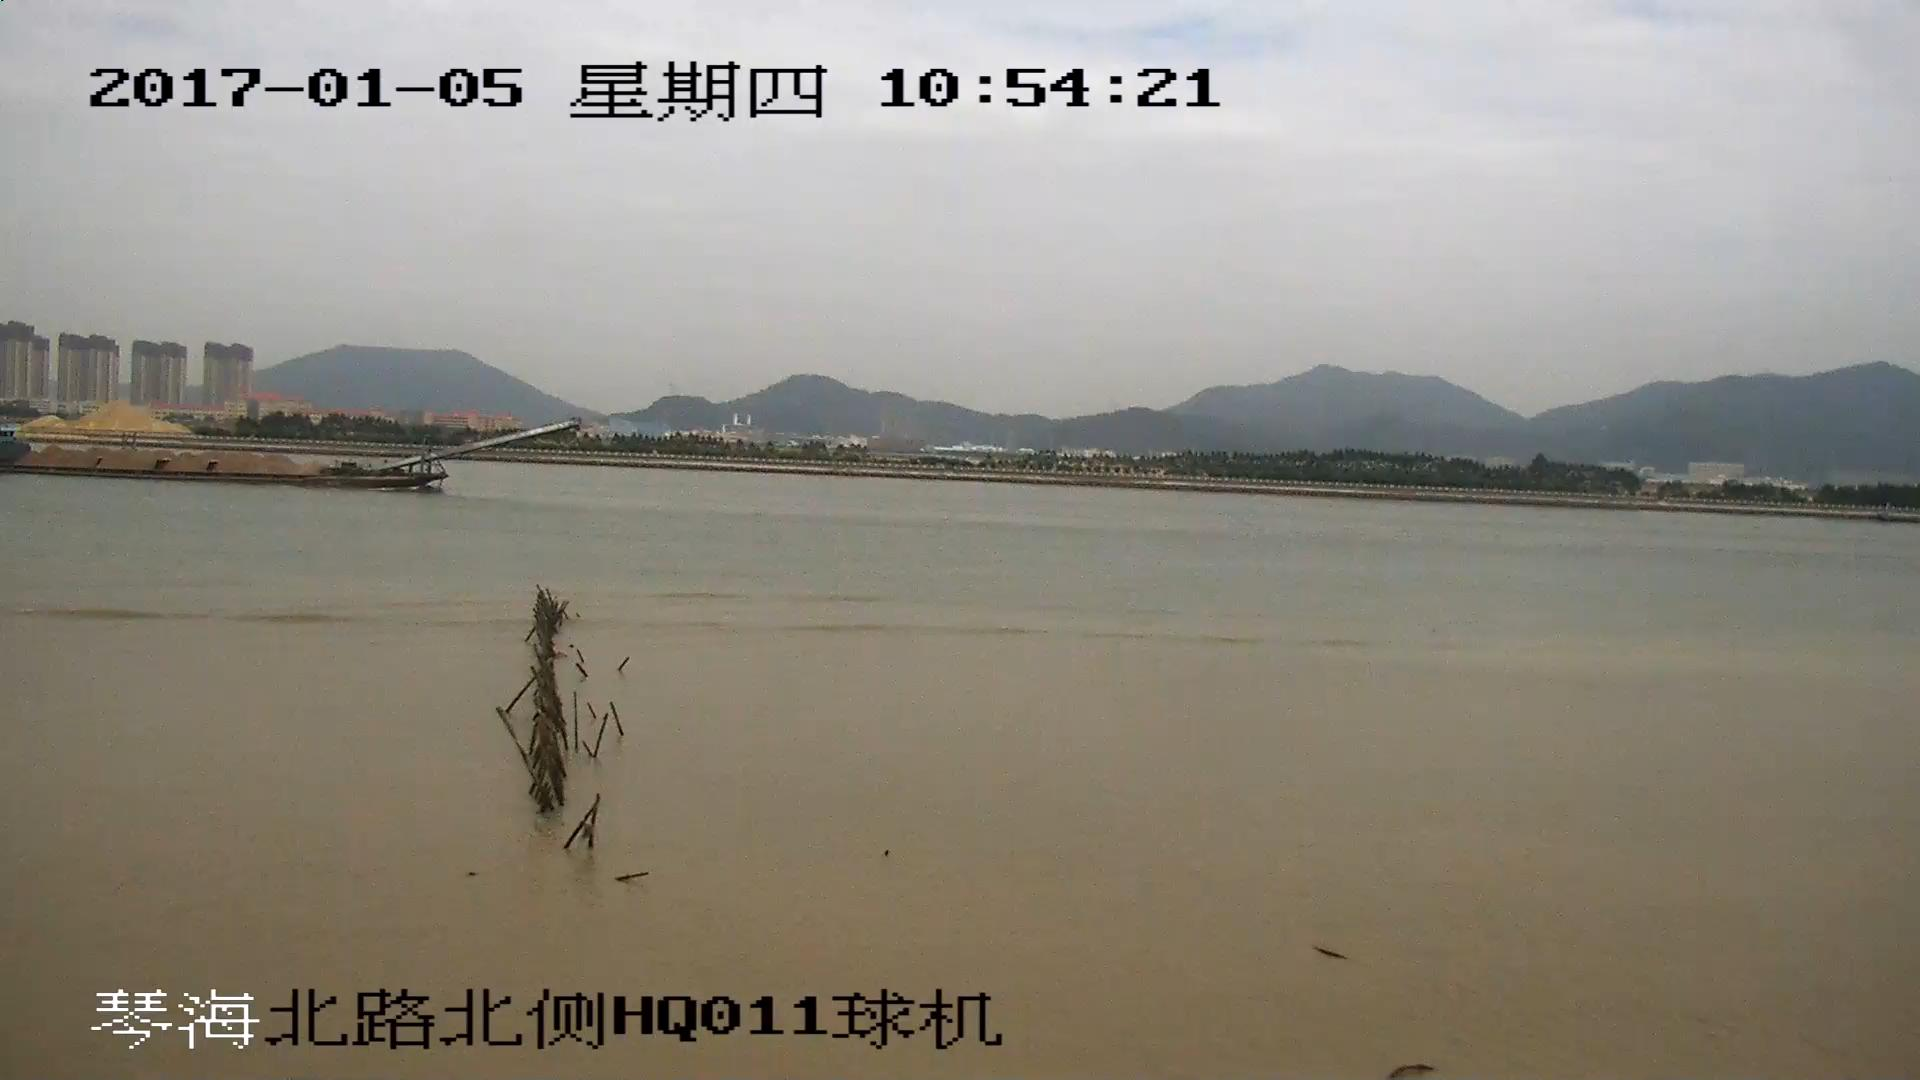ore carrier: (1, 418, 576, 493)
